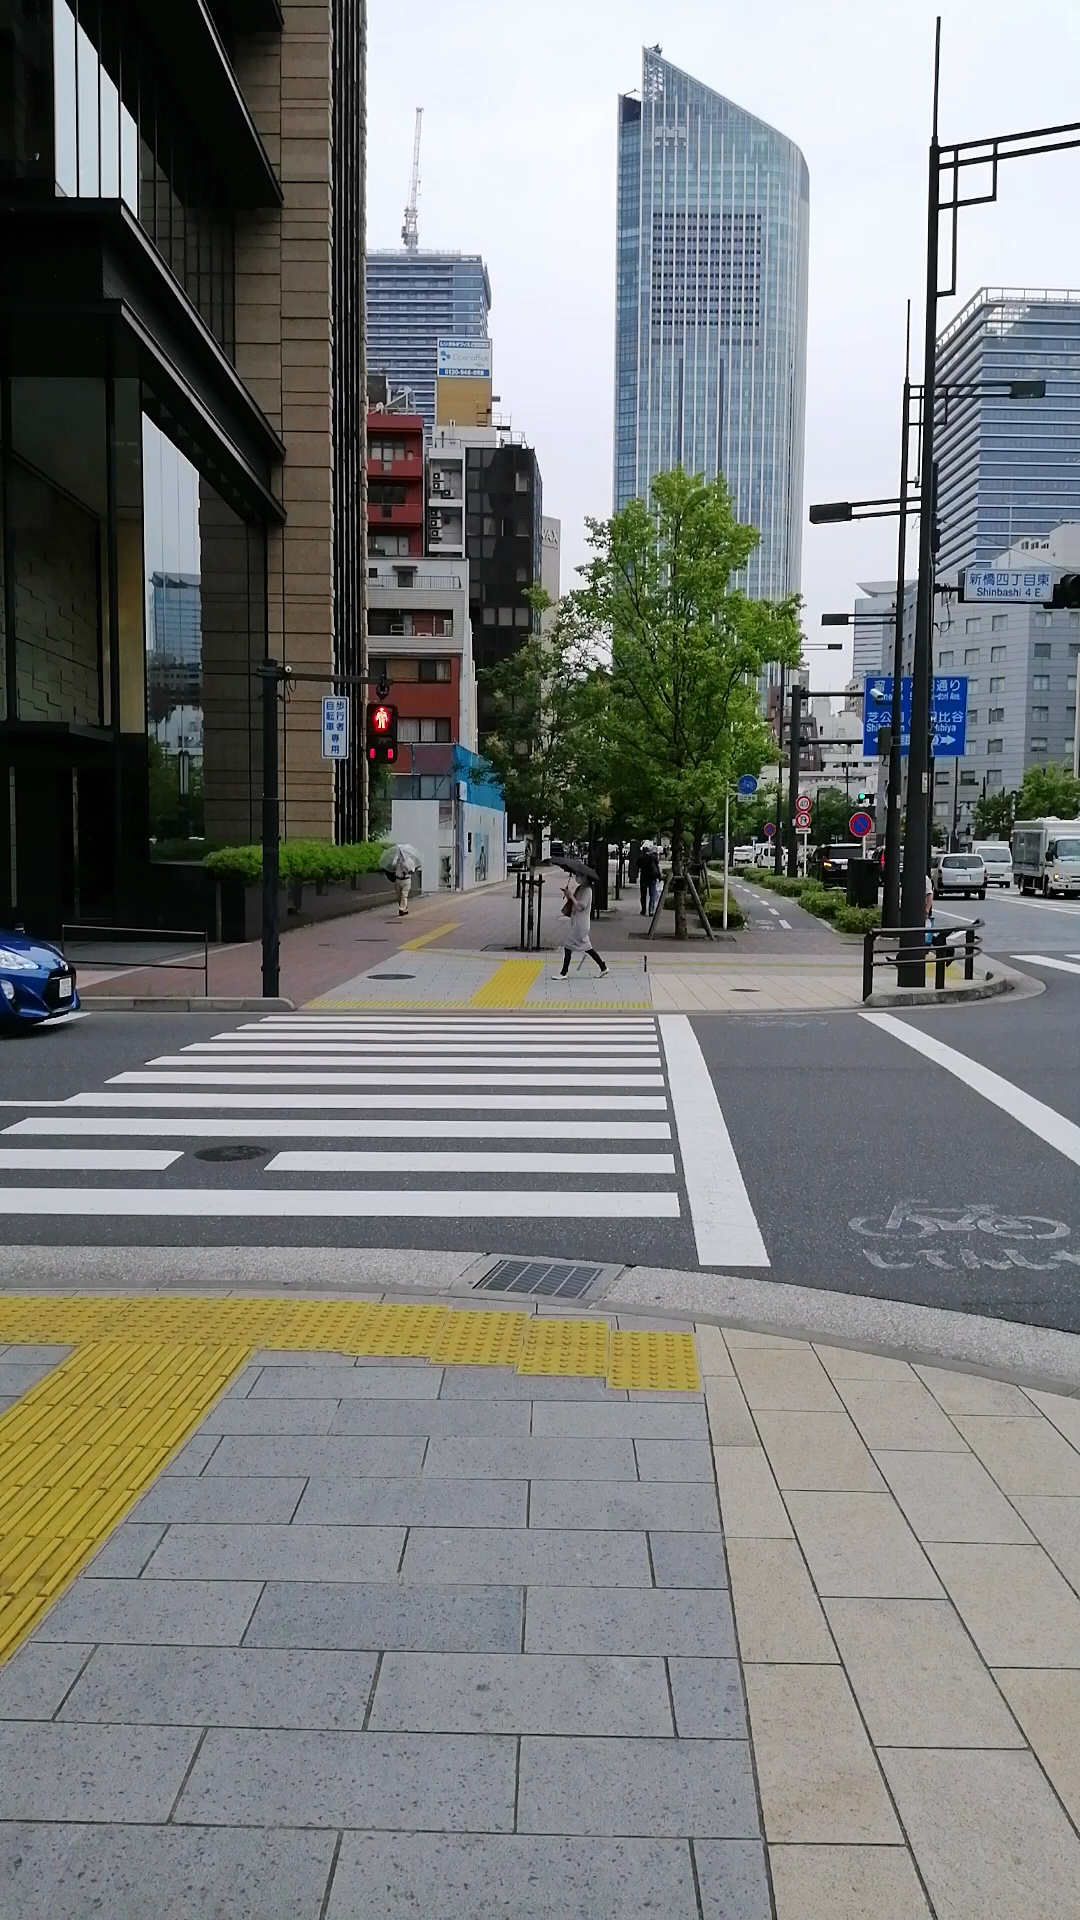red: (365, 702, 398, 764)
